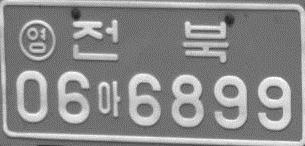0: (14, 69, 48, 123)
6: (56, 70, 90, 125), (127, 72, 161, 126)
8: (170, 73, 204, 129)
9: (213, 74, 248, 129), (257, 76, 291, 130)
아: (97, 79, 121, 117)
영: (17, 17, 56, 62)
전북_D: (70, 20, 231, 63)
